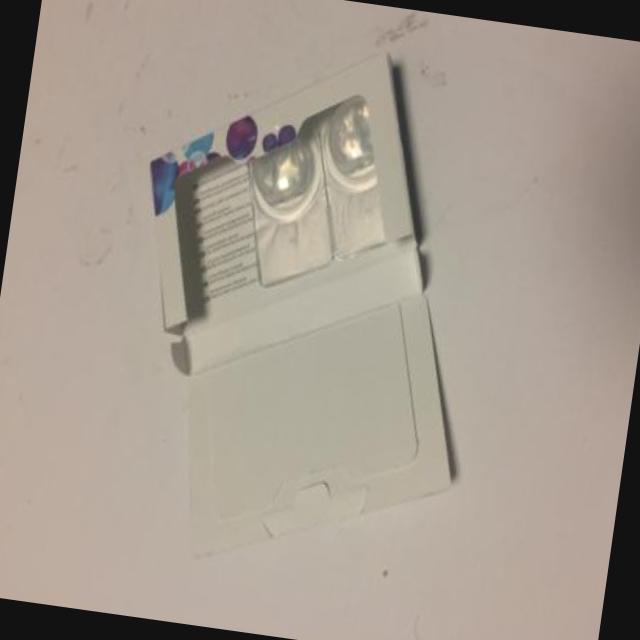giay: (152, 54, 454, 557)
nhom: (249, 94, 387, 286)
